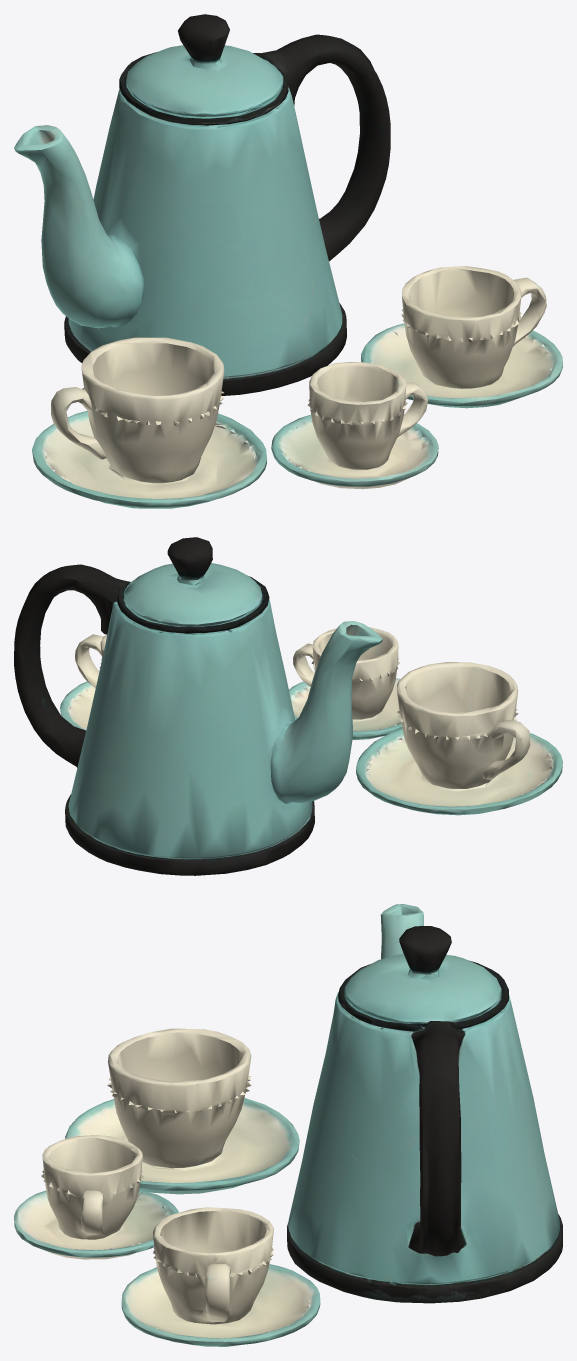
Rendered from kitchen_dishes.glb.
3 views of the same model, one above another, from view 1: azimuth 30°, elevation 25°; view 2: azimuth 150°, elevation 25°; view 3: azimuth 270°, elevation 25° (orthographic). The views are drawn at different scales.
Parts seen in each view (by area): view 1: model; view 2: model; view 3: model.
Boxes of the visible parts, left/top/right/bottom form: model: left=14, top=14, right=562, bottom=508; model: left=14, top=537, right=562, bottom=875; model: left=14, top=904, right=562, bottom=1346.
Size of the model in its own units: 0.4713 by 0.28 by 0.4403.
Materials: 1 (1 with a texture image).
